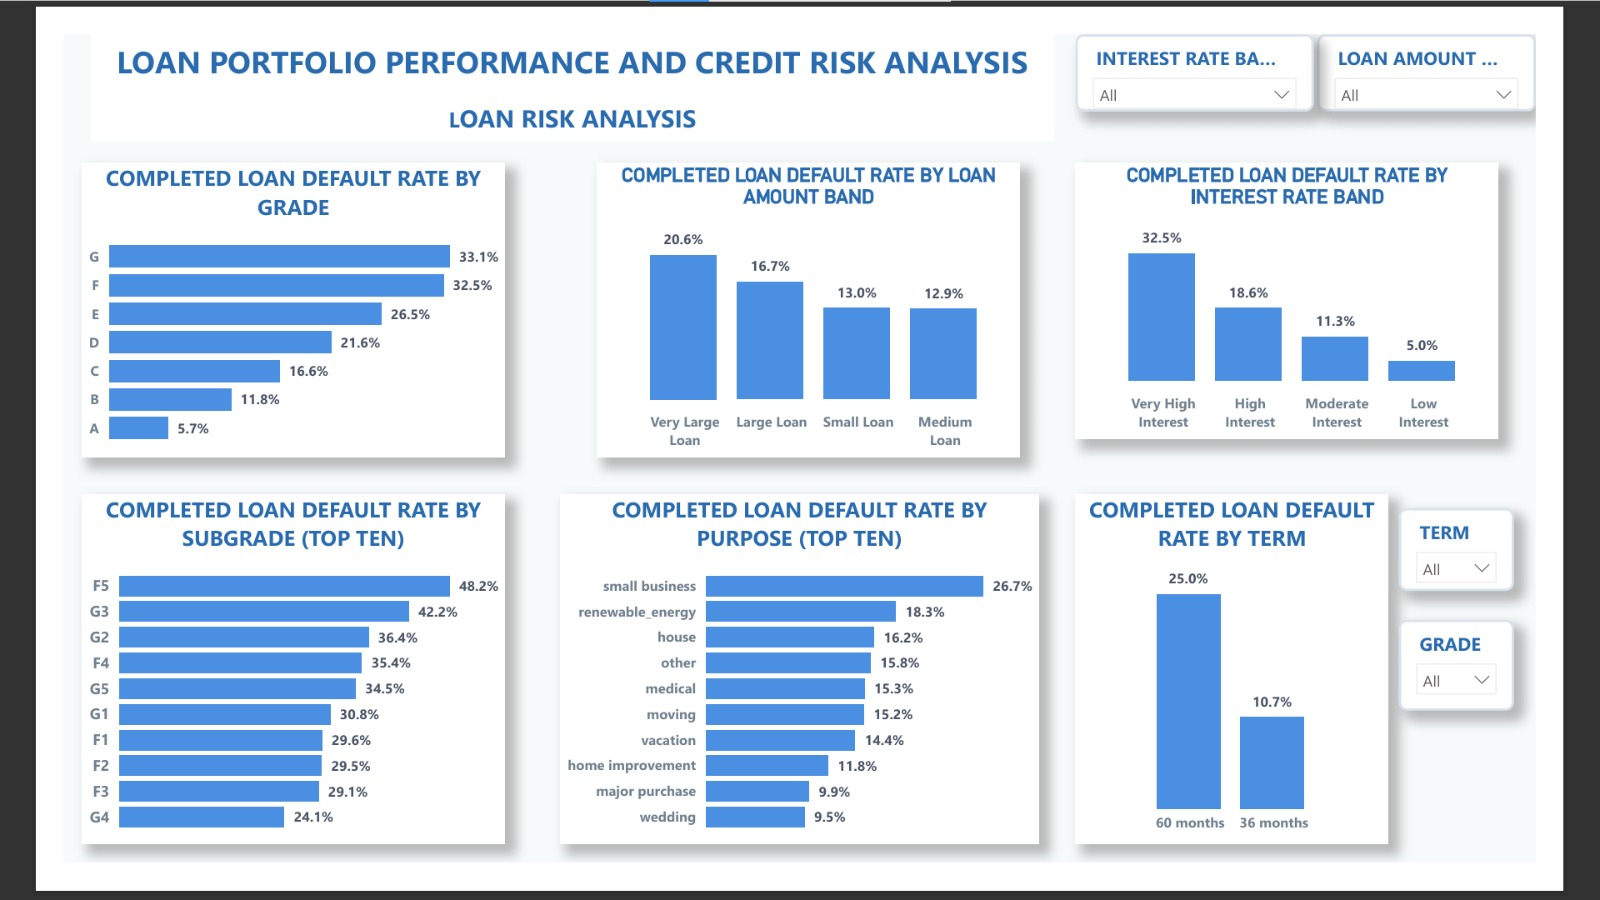

The dashboard page shown, as its layout file describes it:
{"tool":"powerbi","page":{"name":"Page 3","canvas":[1280,720],"ordinal":2},"visuals":[{"type":"clusteredBarChart","title":"COMPLETED LOAN DEFAULT RATE BY GRADE","fields":{"Y":["_MEASURES.COMPLETED LOAN DEFAULT RATE"],"Category":["financial_loan_cleaned.grade"]},"box":[16,112,368,256],"z":0},{"type":"clusteredBarChart","title":"COMPLETED LOAN DEFAULT RATE BY SUBGRADE (TOP TEN)","fields":{"Y":["_MEASURES.COMPLETED LOAN DEFAULT RATE"],"Category":["financial_loan_cleaned.sub_grade"]},"box":[16,400,368,304],"z":1000},{"type":"clusteredColumnChart","title":"COMPLETED LOAN DEFAULT RATE BY LOAN AMOUNT BAND","fields":{"Y":["_MEASURES.COMPLETED LOAN DEFAULT RATE"],"Category":["financial_loan_cleaned.Loan_Amount_Band"]},"box":[464,112,368,256],"z":2000},{"type":"clusteredColumnChart","title":"COMPLETED LOAN DEFAULT RATE BY INTEREST RATE BAND","fields":{"Category":["financial_loan_cleaned.Interest_Rate_Band"],"Y":["_MEASURES.COMPLETED LOAN DEFAULT RATE"]},"box":[880,112,368,240],"z":3000},{"type":"clusteredColumnChart","title":"COMPLETED LOAN DEFAULT RATE BY TERM","fields":{"Y":["_MEASURES.COMPLETED LOAN DEFAULT RATE"],"Category":["financial_loan_cleaned.term"]},"box":[880,400,272,304],"z":4000},{"type":"clusteredBarChart","title":"COMPLETED LOAN DEFAULT RATE BY PURPOSE  (TOP TEN)","fields":{"Category":["financial_loan_cleaned.purpose"],"Y":["_MEASURES.COMPLETED LOAN DEFAULT RATE"]},"box":[432,400,416,304],"z":5000},{"type":"textbox","box":[23.8,0,837.5,92.5],"z":6000},{"type":"slicer","fields":{"Values":["financial_loan_cleaned.Loan_Amount_Band"]},"box":[1089.9,0,189.9,66.7],"z":7000},{"type":"slicer","fields":{"Values":["financial_loan_cleaned.Interest_Rate_Band"]},"box":[879.7,0,207.2,66.7],"z":8000},{"type":"slicer","fields":{"Values":["financial_loan_cleaned.term"]},"box":[1160.9,411.6,100,72.5],"z":9000},{"type":"slicer","fields":{"Values":["financial_loan_cleaned.grade"]},"box":[1160.9,508.7,100,79.7],"z":10000}]}

Visuals, with their boxes in screenshot pixels (x1, y1, x2, y2), scaled from the page's 1280x720 canvas onto the 1600x900 screenshot:
"COMPLETED LOAN DEFAULT RATE BY GRADE" clusteredBarChart: <bbox>20, 140, 480, 460</bbox>
"COMPLETED LOAN DEFAULT RATE BY SUBGRADE (TOP TEN)" clusteredBarChart: <bbox>20, 500, 480, 880</bbox>
"COMPLETED LOAN DEFAULT RATE BY LOAN AMOUNT BAND" clusteredColumnChart: <bbox>580, 140, 1040, 460</bbox>
"COMPLETED LOAN DEFAULT RATE BY INTEREST RATE BAND" clusteredColumnChart: <bbox>1100, 140, 1560, 440</bbox>
"COMPLETED LOAN DEFAULT RATE BY TERM" clusteredColumnChart: <bbox>1100, 500, 1440, 880</bbox>
"COMPLETED LOAN DEFAULT RATE BY PURPOSE  (TOP TEN)" clusteredBarChart: <bbox>540, 500, 1060, 880</bbox>
textbox: <bbox>30, 0, 1077, 116</bbox>
slicer - financial_loan_cleaned.Loan_Amount_Band: <bbox>1362, 0, 1599, 83</bbox>
slicer - financial_loan_cleaned.Interest_Rate_Band: <bbox>1100, 0, 1359, 83</bbox>
slicer - financial_loan_cleaned.term: <bbox>1451, 514, 1576, 605</bbox>
slicer - financial_loan_cleaned.grade: <bbox>1451, 636, 1576, 736</bbox>
